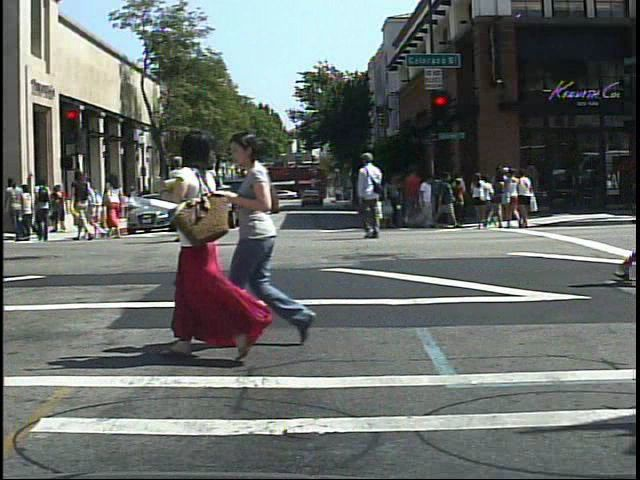person: (142, 128, 260, 358), (228, 125, 332, 350), (163, 154, 199, 244), (357, 149, 390, 242), (492, 163, 530, 232), (200, 155, 229, 245), (69, 166, 98, 244), (102, 169, 130, 243), (470, 169, 494, 233), (33, 176, 55, 244), (5, 178, 26, 244)
